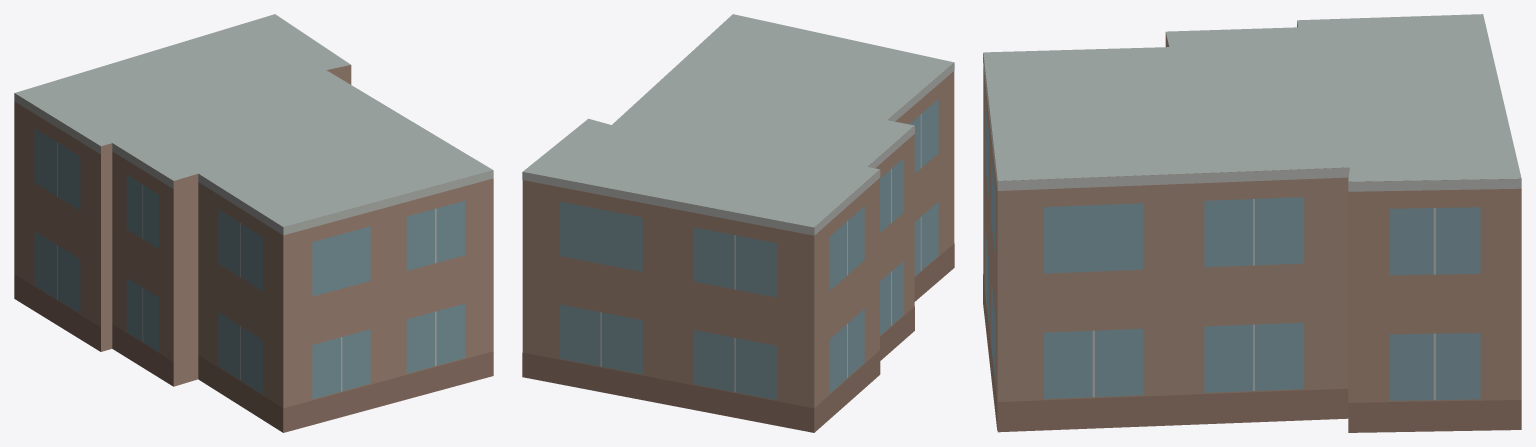
File: survey-upis-32950852.glb
3 views of the same model, side by side, from view 1: azimuth 30°, elevation 25°; view 2: azimuth 150°, elevation 25°; view 3: azimuth 270°, elevation 25° (orthographic). The views are drawn at different scales.
Visible parts, largest first — view 1: survey-upis-32950852.tmp; view 2: survey-upis-32950852.tmp; view 3: survey-upis-32950852.tmp.
Part boxes in pixels (x1,y1,x2,y2): survey-upis-32950852.tmp: (14, 14, 493, 432); survey-upis-32950852.tmp: (522, 14, 954, 432); survey-upis-32950852.tmp: (983, 14, 1521, 432).
Bounding box in the file's own units: 8.75 × 6.1 × 11.87.
